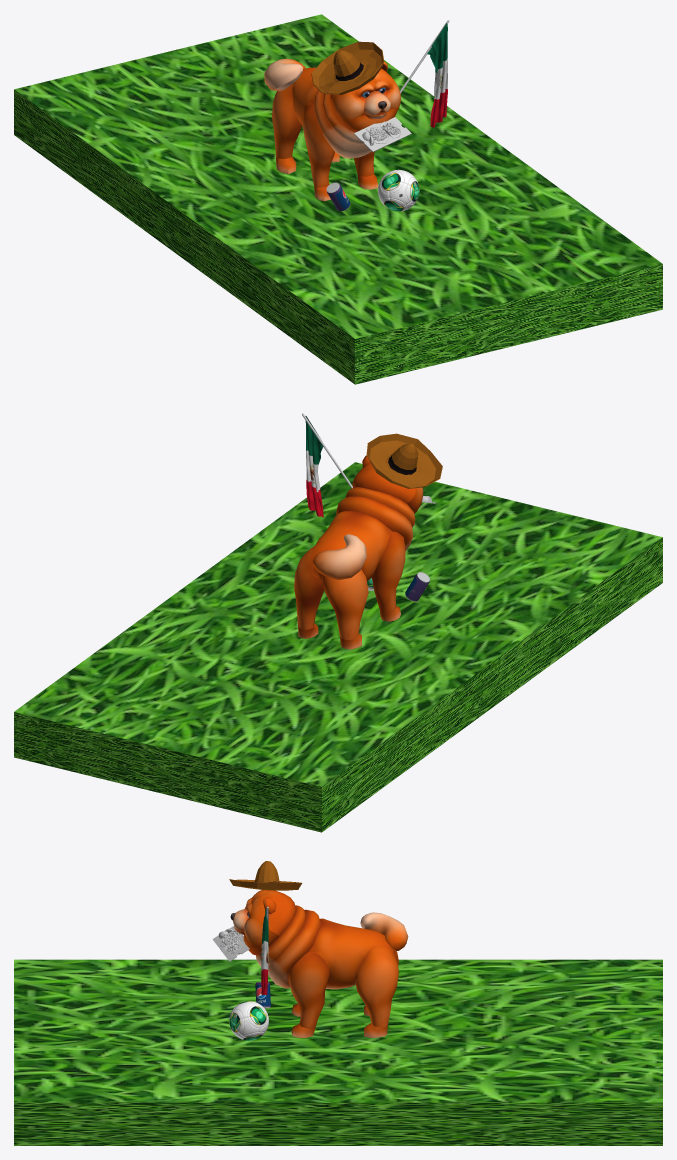
The model's file is EscenarioP8.obj.
The picture shows the model from 3 angles, top to bottom: view 1: azimuth 30°, elevation 25°; view 2: azimuth 150°, elevation 25°; view 3: azimuth 270°, elevation 25°; orthographic projection. The views are drawn at different scales.
Visible parts, largest first — view 1: Cube, Group24122, Circle, Cafusa_Cone, Flag, taco_200k_4kt; view 2: Cube, Group24122, Circle, Flag; view 3: Cube, Group24122, Cafusa_Cone, Circle, taco_200k_4kt, Flag.
Boxes of the visible parts, <box> form: Cube: <box>14,14,662,384</box>; Group24122: <box>264,58,401,201</box>; Circle: <box>311,41,384,94</box>; Cafusa_Cone: <box>378,169,419,211</box>; Flag: <box>427,23,447,127</box>; taco_200k_4kt: <box>354,117,411,152</box>; Cube: <box>14,462,662,832</box>; Group24122: <box>294,455,423,649</box>; Circle: <box>366,433,442,488</box>; Flag: <box>305,416,323,517</box>; Cube: <box>14,959,662,1145</box>; Group24122: <box>230,890,408,1037</box>; Cafusa_Cone: <box>229,1001,268,1040</box>; Circle: <box>229,861,302,890</box>; taco_200k_4kt: <box>212,926,249,961</box>; Flag: <box>261,907,268,995</box>.
Bounding box in the file's own units: 1.51 × 0.9941 × 2.9.
